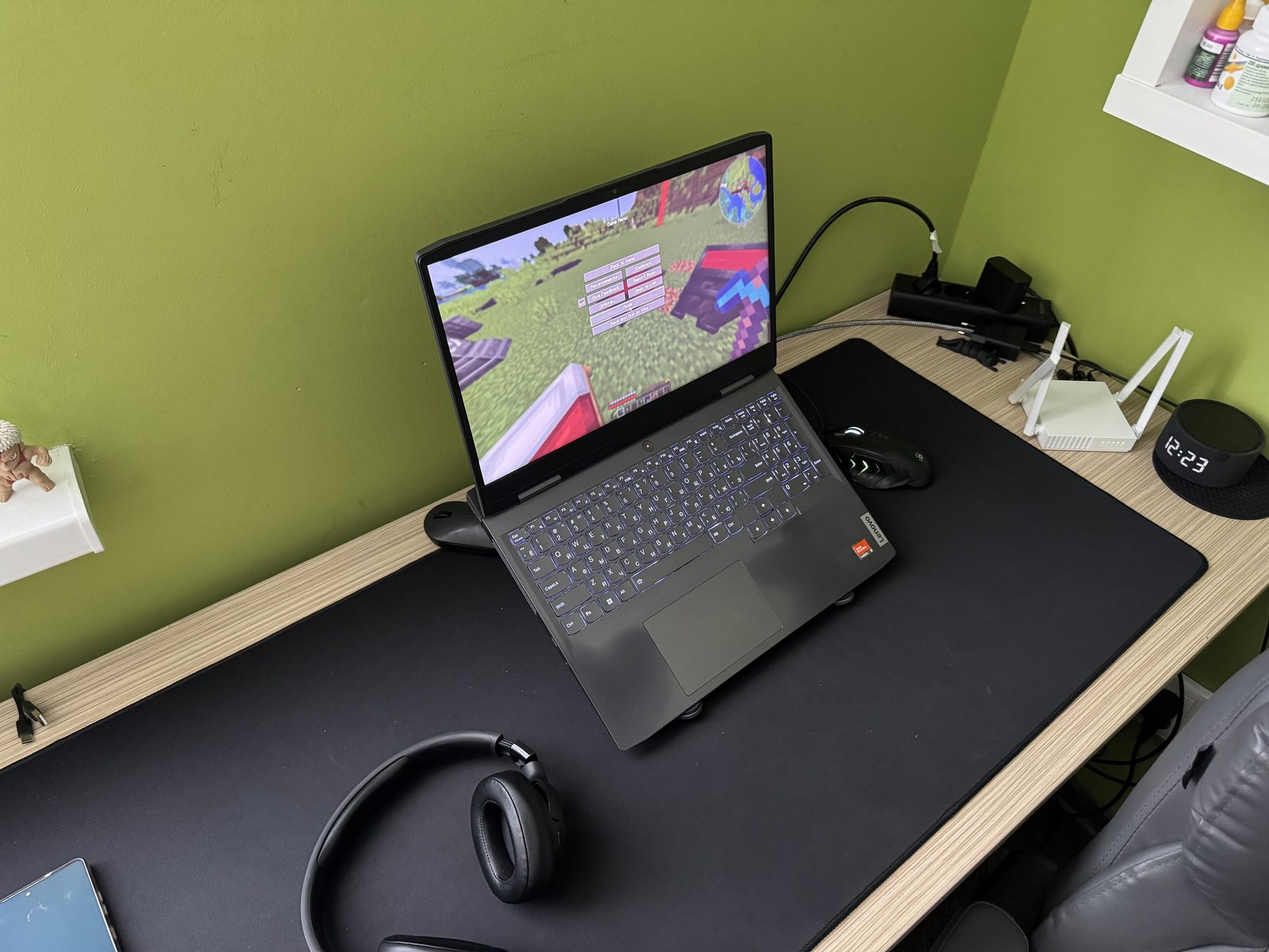cell phone: (0, 857, 121, 951)
laptop: (415, 130, 897, 751)
